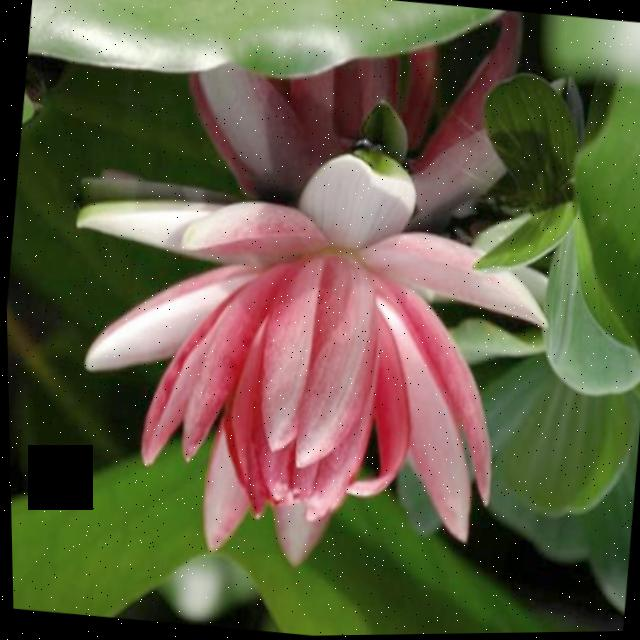rose: (0, 0, 588, 636)
